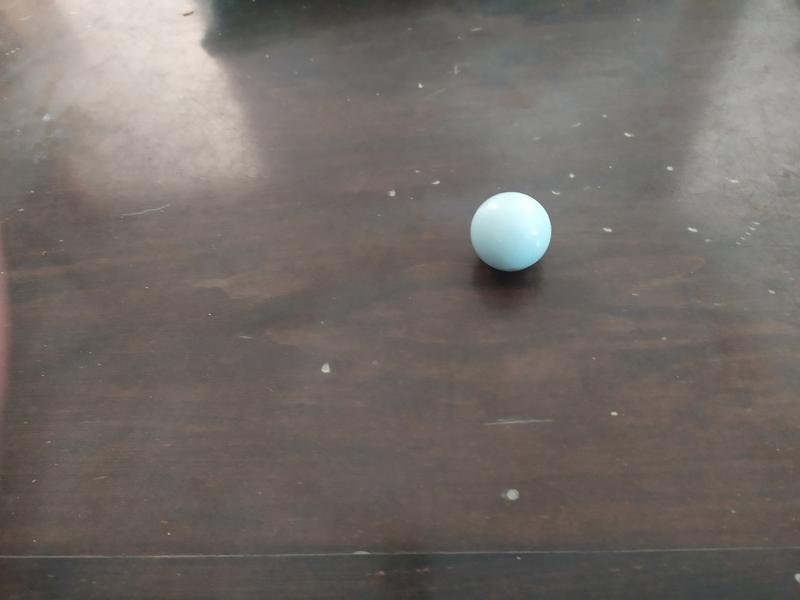Warning: (467, 188, 555, 275)
